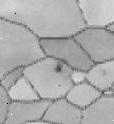good_void: (57, 64, 62, 72), (82, 116, 84, 119)
